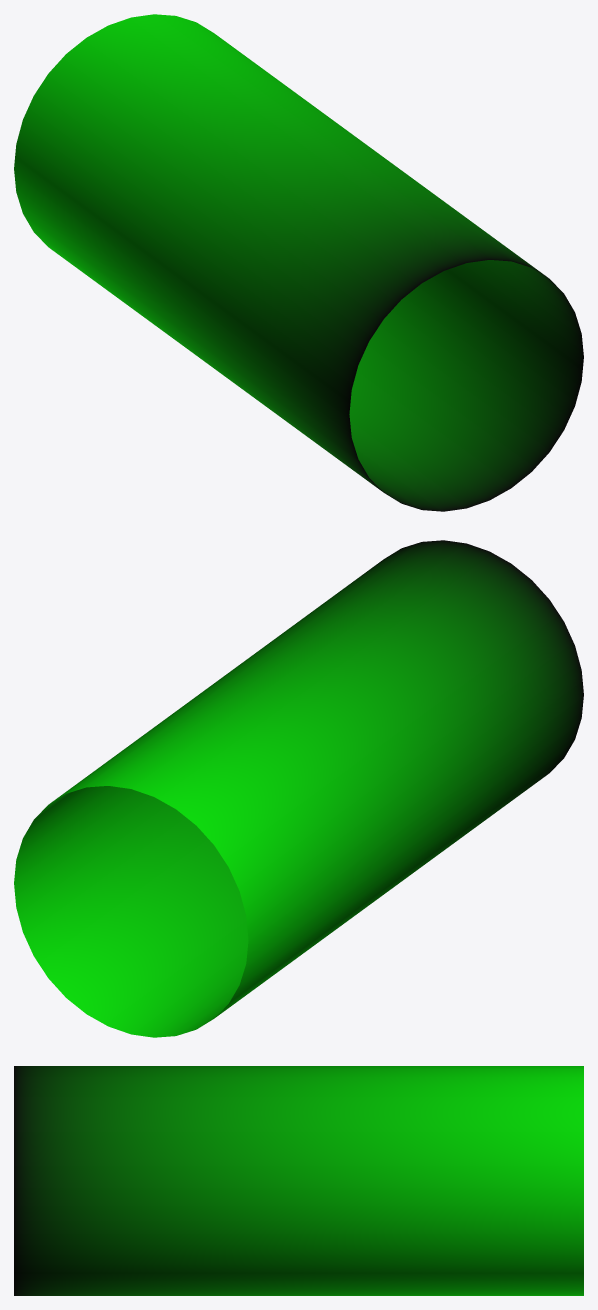
The model's file is CaptureZoneModel.fbx.
3 views of the same model, one above another, from view 1: azimuth 30°, elevation 25°; view 2: azimuth 150°, elevation 25°; view 3: azimuth 270°, elevation 25° (orthographic). The views are drawn at different scales.
Parts seen in each view (by area): view 1: CaptureCylinderModel; view 2: CaptureCylinderModel; view 3: CaptureCylinderModel.
Part boxes in pixels (x1,y1,x2,y2): CaptureCylinderModel: (14, 14, 583, 511); CaptureCylinderModel: (14, 540, 583, 1037); CaptureCylinderModel: (14, 1066, 583, 1295).
Bounding box in the file's own units: 4807 × 4807 × 11909.
